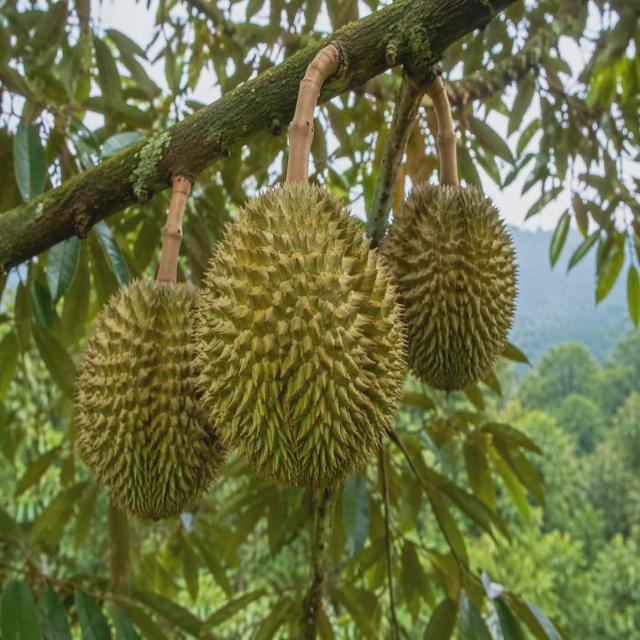immature: (194, 184, 410, 495), (72, 276, 226, 522), (380, 182, 520, 394)
